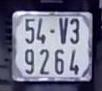2: (38, 48, 50, 76)
3: (69, 17, 80, 46)
4: (36, 17, 48, 45), (69, 49, 81, 75)
5: (21, 16, 35, 45)
6: (52, 48, 67, 76)
9: (23, 48, 36, 75)
V: (57, 16, 67, 45)
